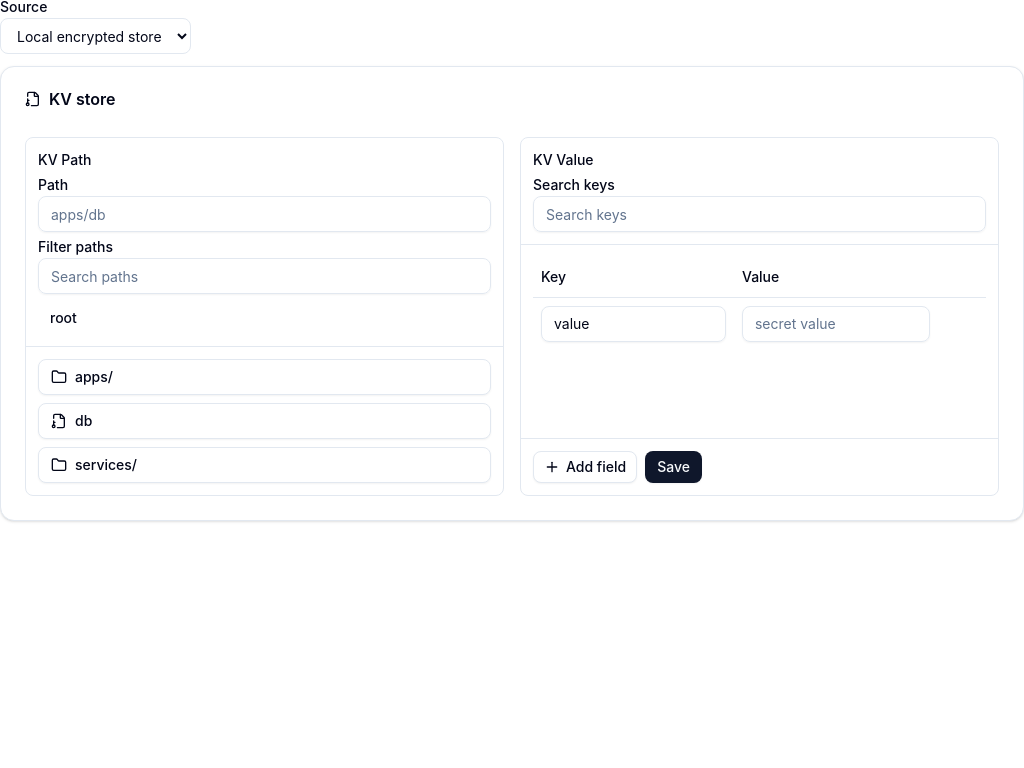
Test: KV secrets editor › rejects empty or secret-like audit reasons
Click the button "db". click: coordinates (59, 421)
box: [38,403,491,439]
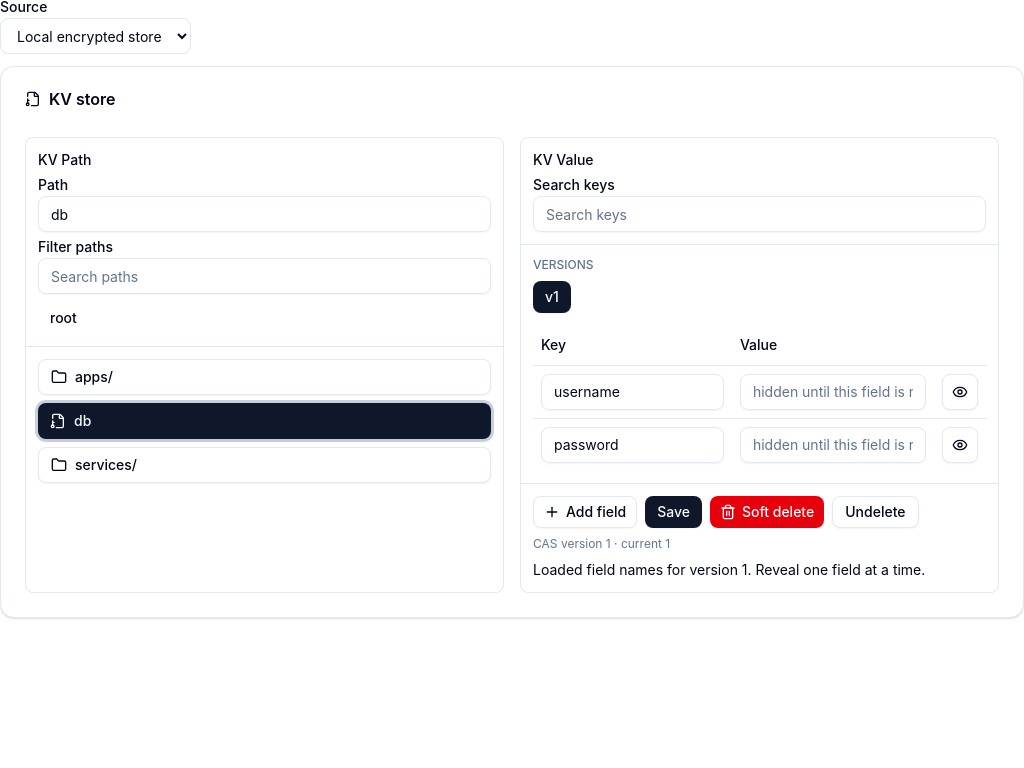
Expected: the field showing "password" is shown, [541,426,724,462]
Click the button named "Reveal password". click: coordinates (960, 444)
box: [942,426,978,462]
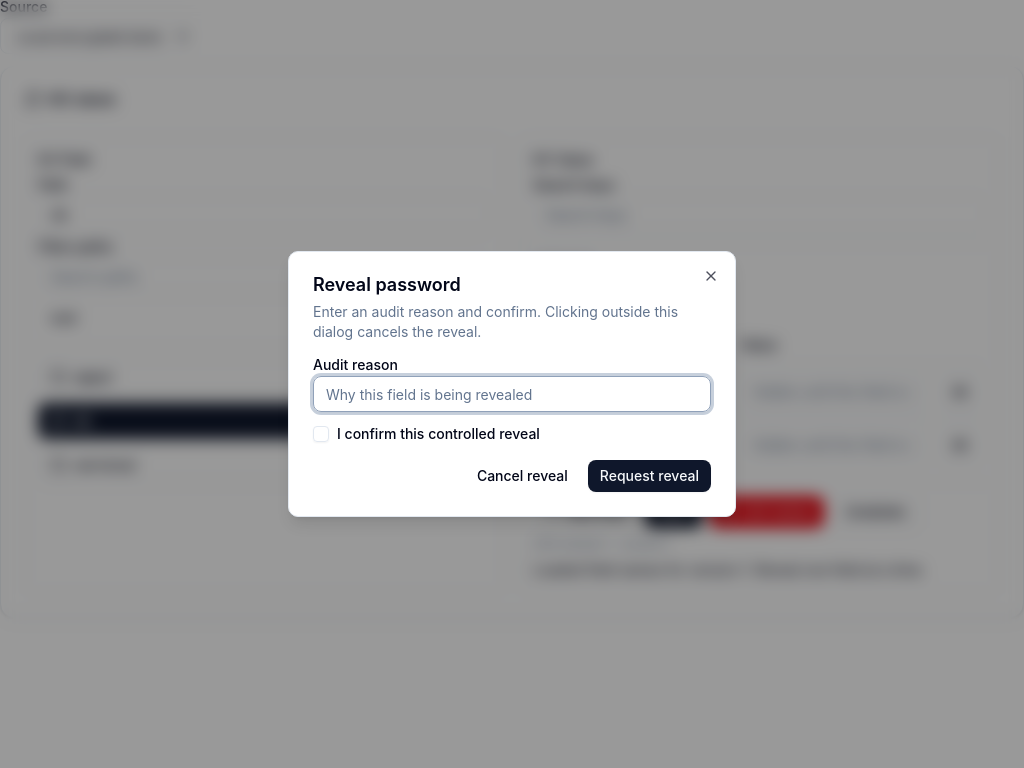
Click the button "Request reveal". click: coordinates (649, 476)
box: [588,460,711,492]
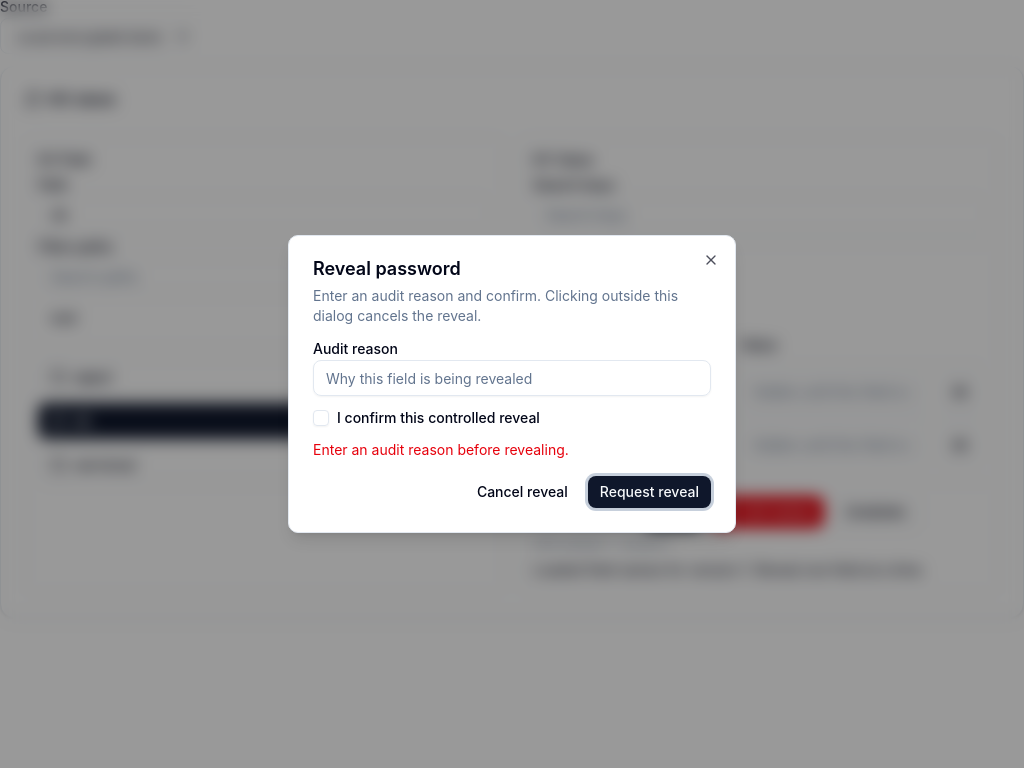
Expected: the text "Enter an audit reason before revealing." is shown, [313,441,569,458]
Type "password=SuperSecret1234" into the field labelled "Audit reason". click: coordinates (512, 378)
box: [313,360,711,396]
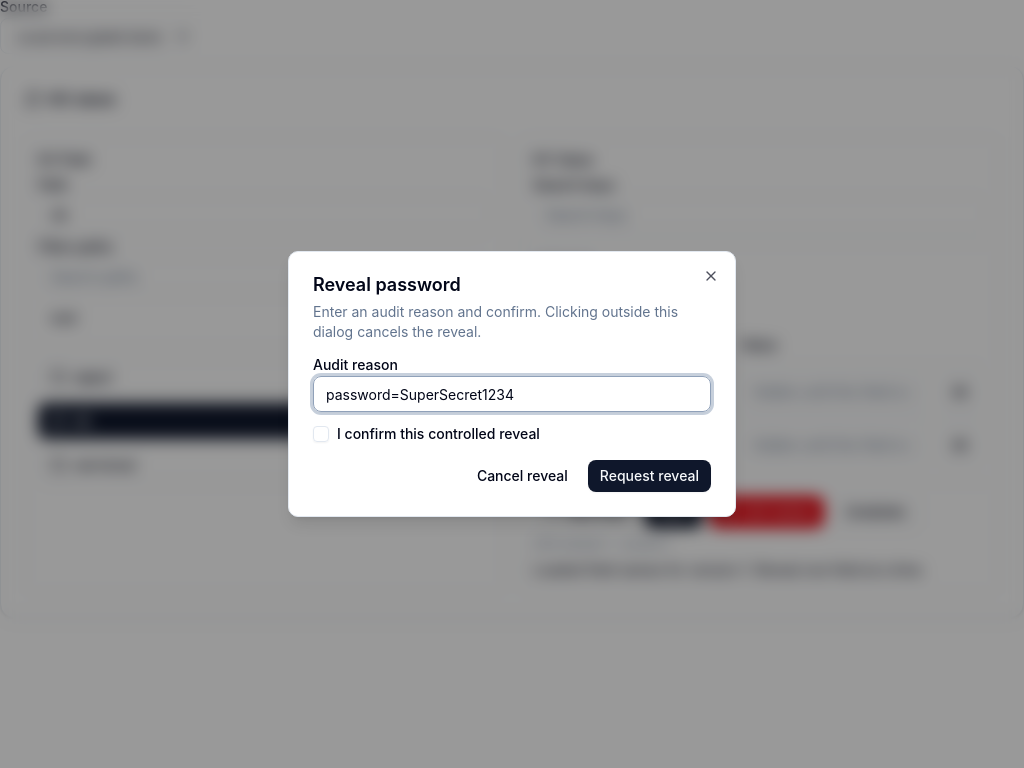
Click the checkbox named "Confirm this controlled reveal". click: coordinates (321, 434)
box: [313,426,329,442]
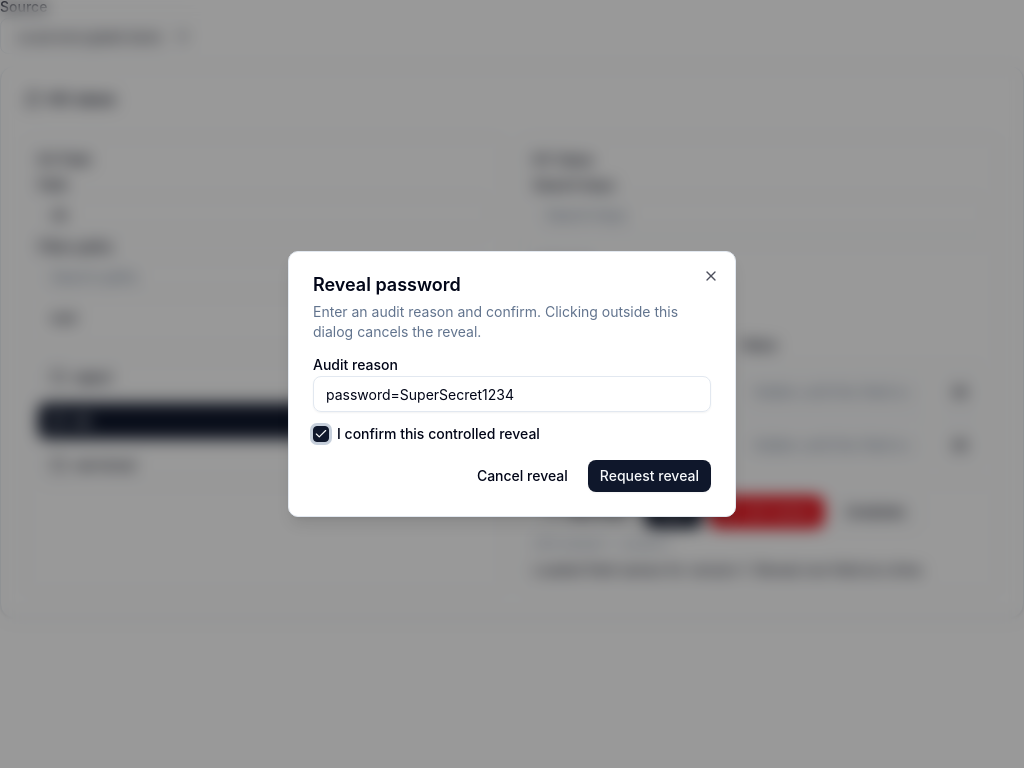
Click the button "Request reveal". click: coordinates (649, 476)
box: [588,460,711,492]
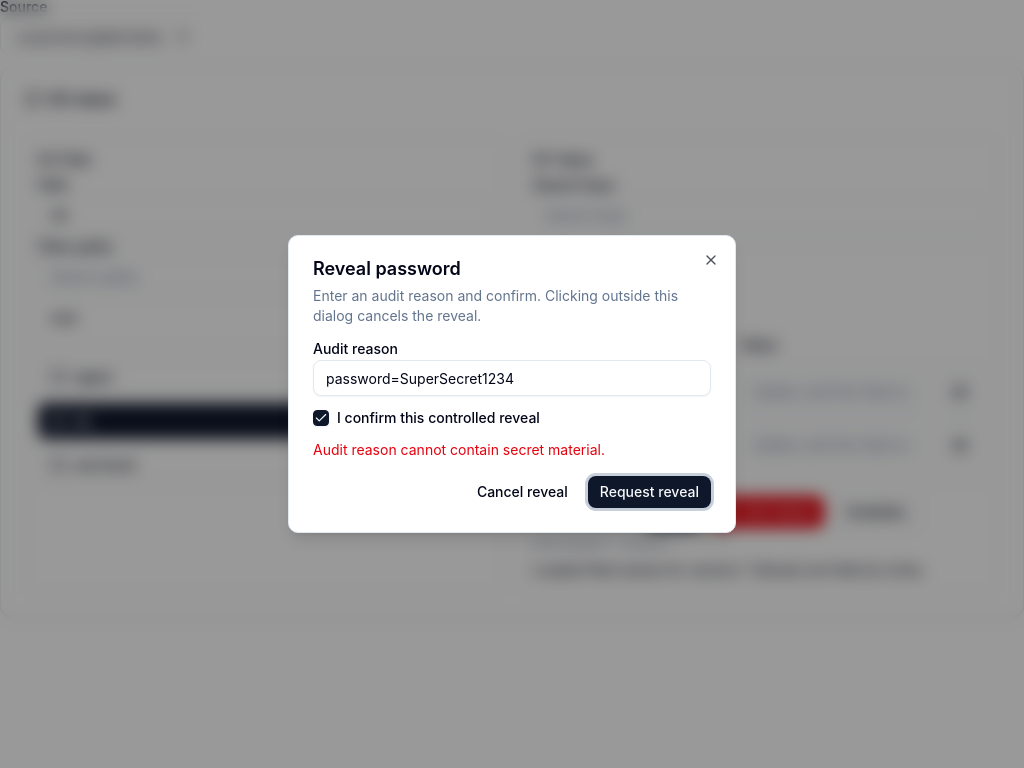
Expected: the text "Audit reason cannot contain secret material." is shown, [313,441,605,458]
